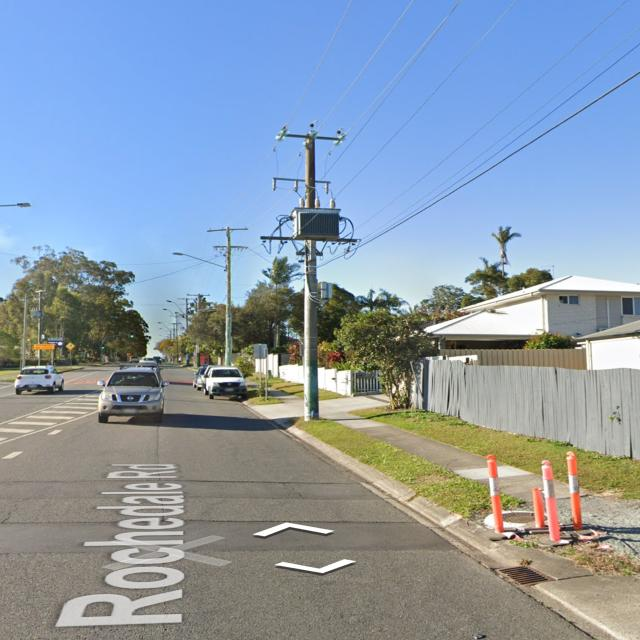HV-transmission: (272, 123, 347, 192), (205, 225, 249, 252)
LV link: (344, 241, 359, 259), (328, 240, 342, 255), (261, 238, 272, 254), (278, 240, 288, 253)
concrete-pole: (304, 135, 320, 422)
crossarm: (275, 124, 346, 146), (272, 176, 331, 194), (258, 234, 360, 243), (206, 226, 248, 233), (212, 245, 248, 251)
streetlight: (171, 252, 228, 270)
timber-pole: (225, 226, 232, 366)
transformer: (293, 196, 340, 239)
